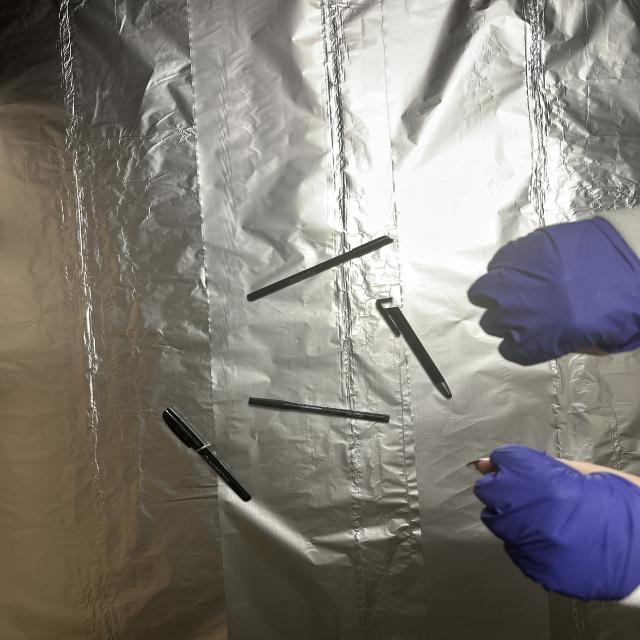glove_partial: (463, 436, 640, 603), (462, 214, 640, 368)
